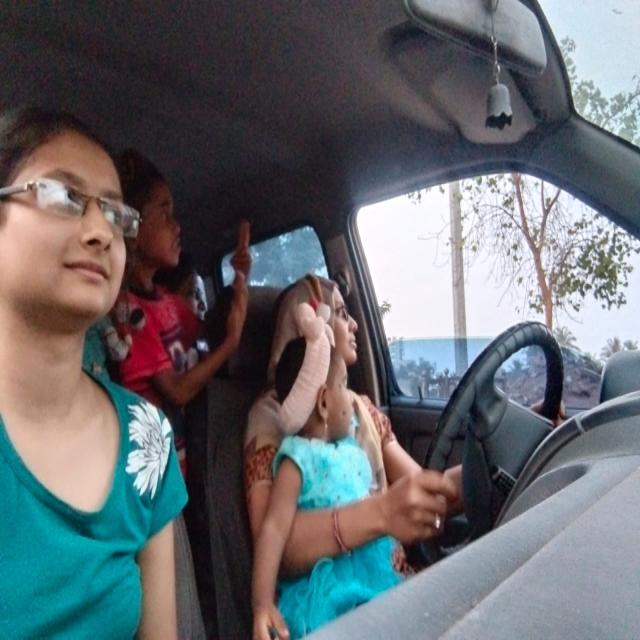child: (265, 323, 360, 464), (127, 146, 196, 296)
person: (0, 99, 139, 383), (307, 271, 373, 370)
